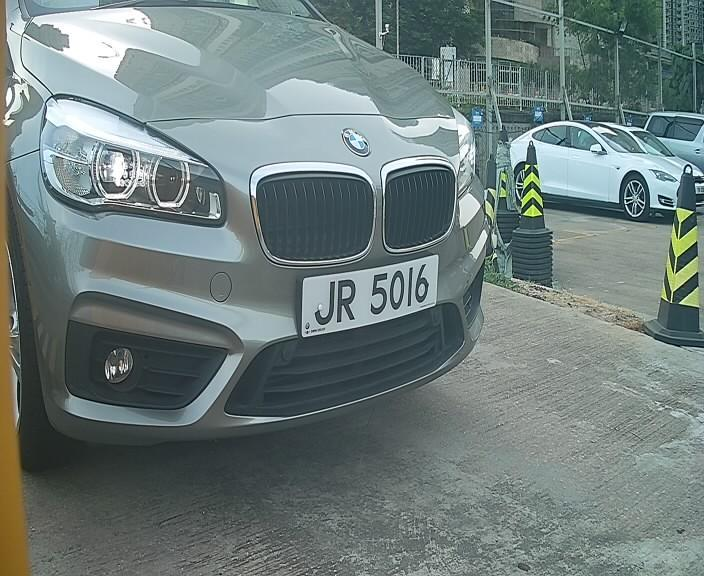privatecar: (1, 13, 535, 456)
